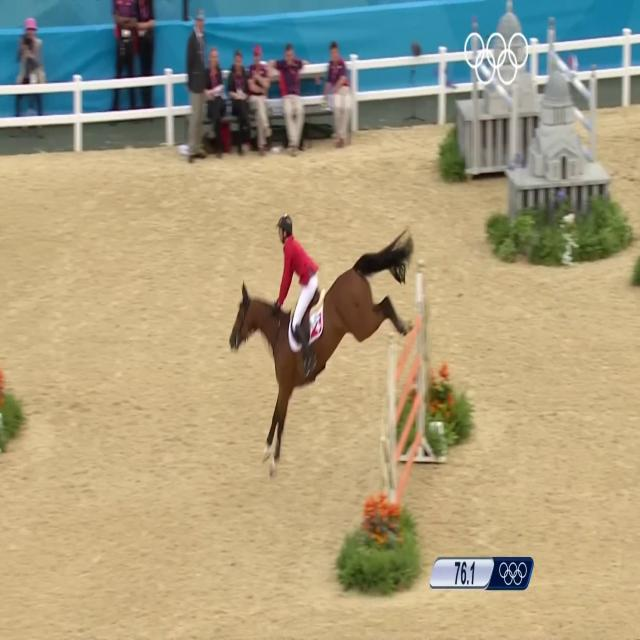Horse Jumping: (228, 218, 432, 481)
Horse Rider: (257, 182, 341, 382)
